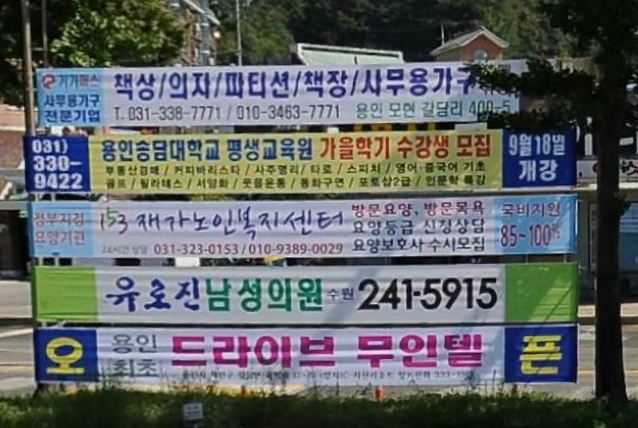banner: (17, 186, 599, 260), (29, 315, 590, 391), (24, 260, 594, 331), (12, 127, 586, 193), (21, 58, 552, 126)
